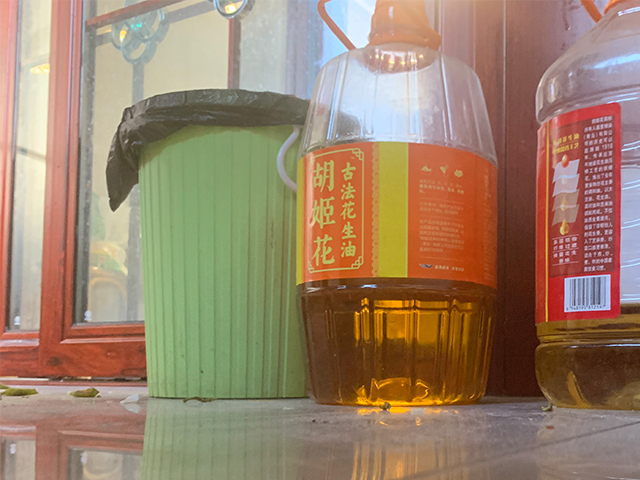trashcan: (121, 88, 309, 400)
